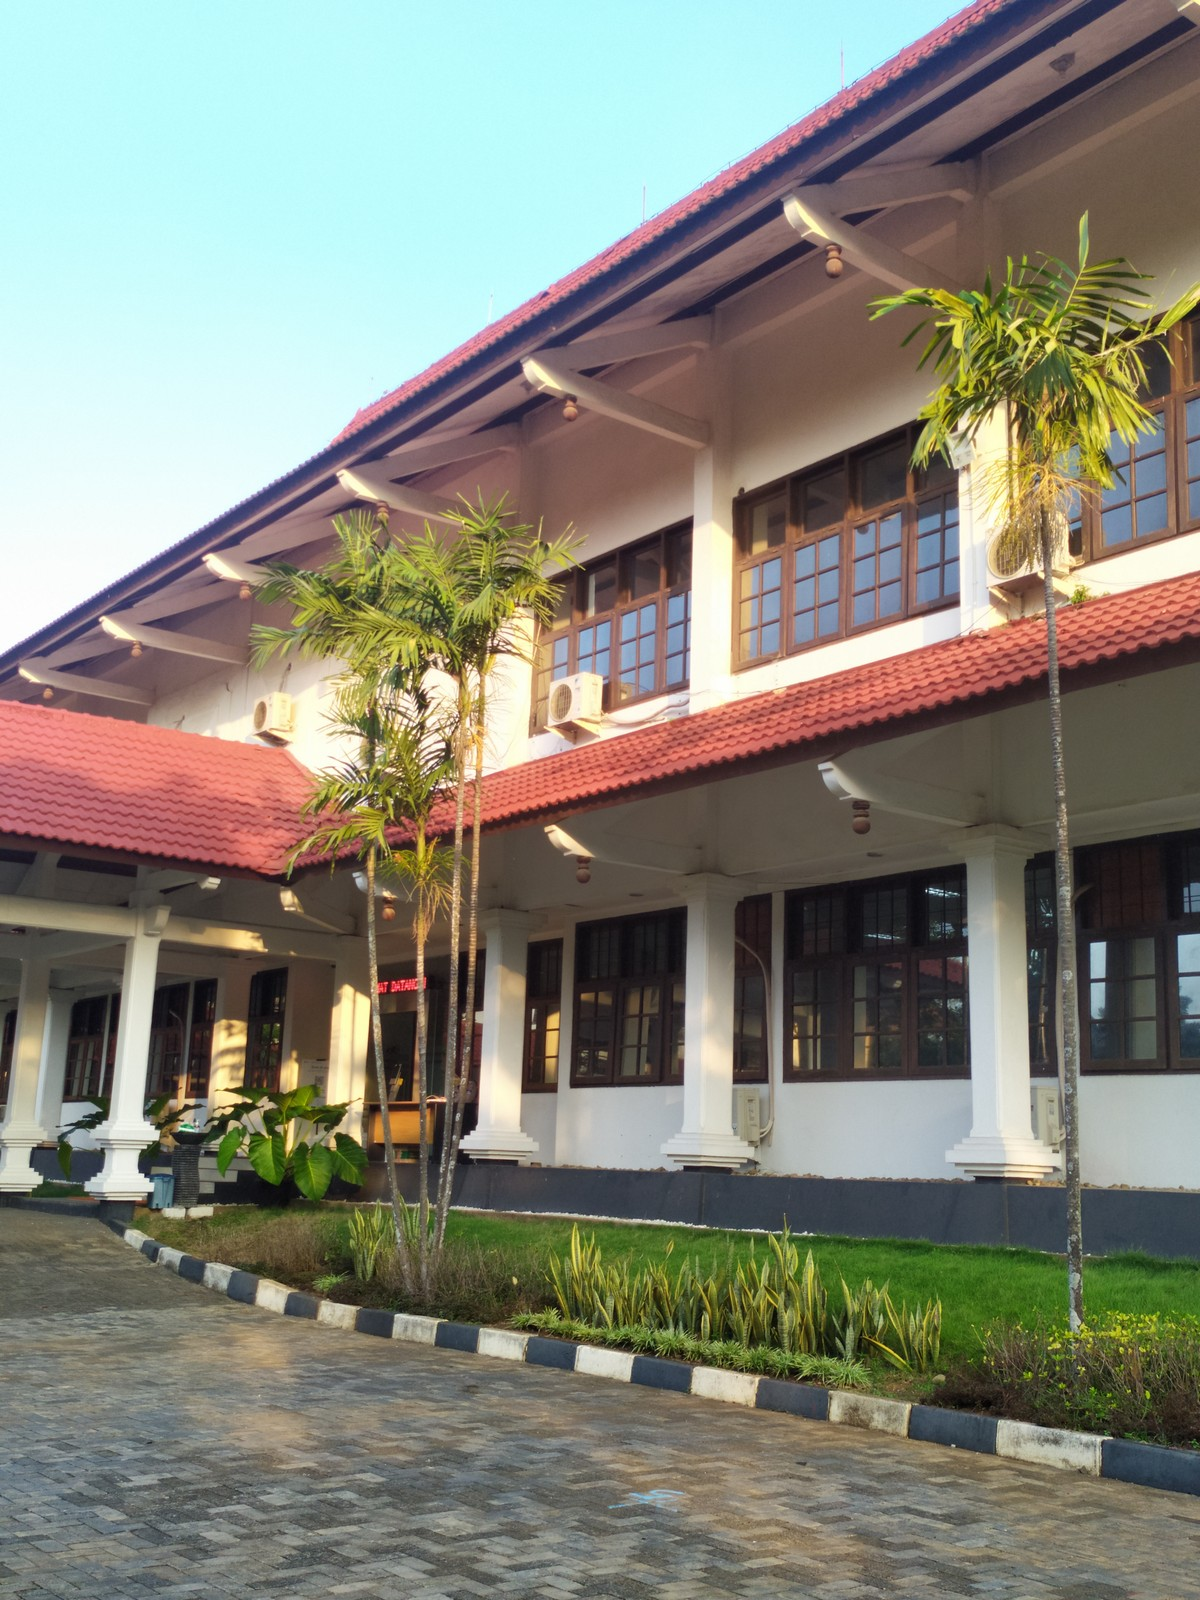concrete beam: (856, 239, 1003, 317), (586, 377, 710, 454), (384, 481, 518, 543), (142, 620, 260, 674)
concrete column: (961, 837, 1044, 1148), (684, 363, 741, 707), (679, 879, 744, 1146), (471, 915, 539, 1144), (110, 918, 158, 1141)
